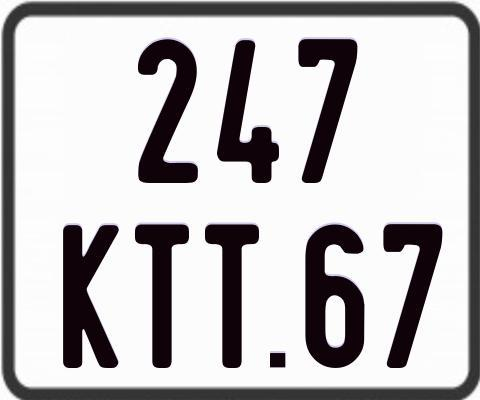2: (135, 37, 197, 186)
4: (214, 37, 281, 184)
6: (303, 222, 365, 370)
7: (297, 38, 362, 188), (383, 224, 448, 368)
K: (62, 225, 120, 372)
T: (202, 224, 262, 373), (133, 221, 189, 370)
